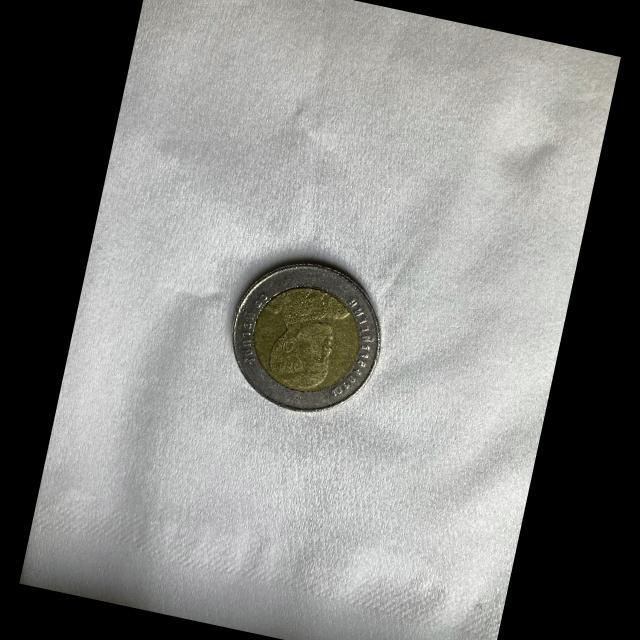10 Bath: (231, 259, 385, 414)
